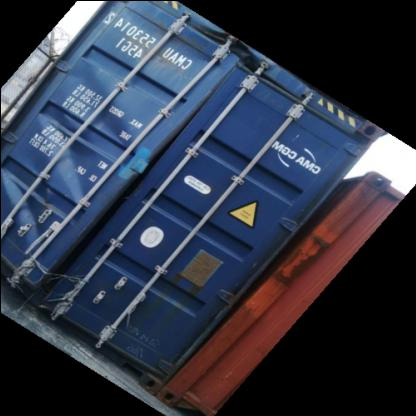Damage: (38, 75, 142, 206), (46, 223, 104, 305), (194, 20, 262, 78), (0, 172, 37, 252)
